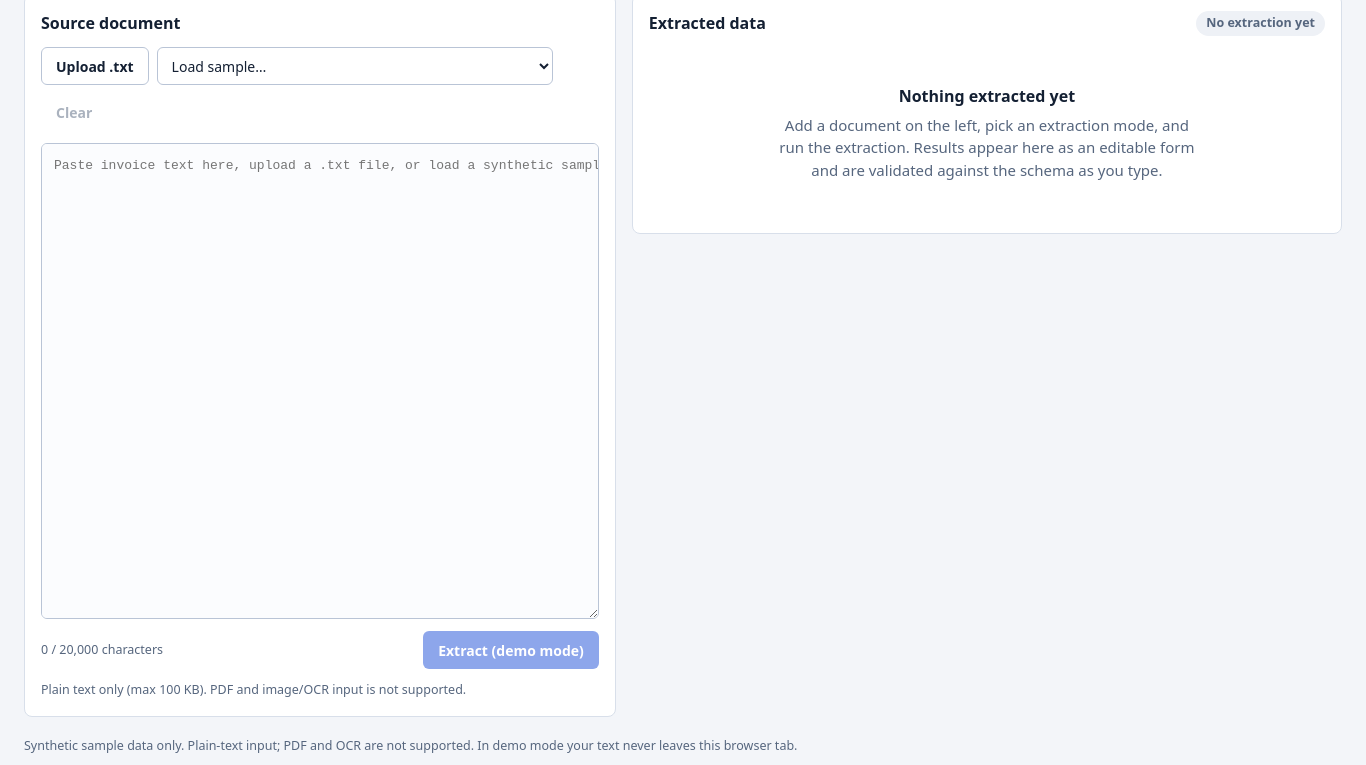
Test: App — demo mode › shows a clear error for text that is not an invoice (all fields flagged, nothing exportable)
(page scrolled)
Step 1. Replace the text in the text box named "document text" with "Just a shopping list: milk, eggs" → {"x": 320, "y": 381}, box [41,143,599,619]
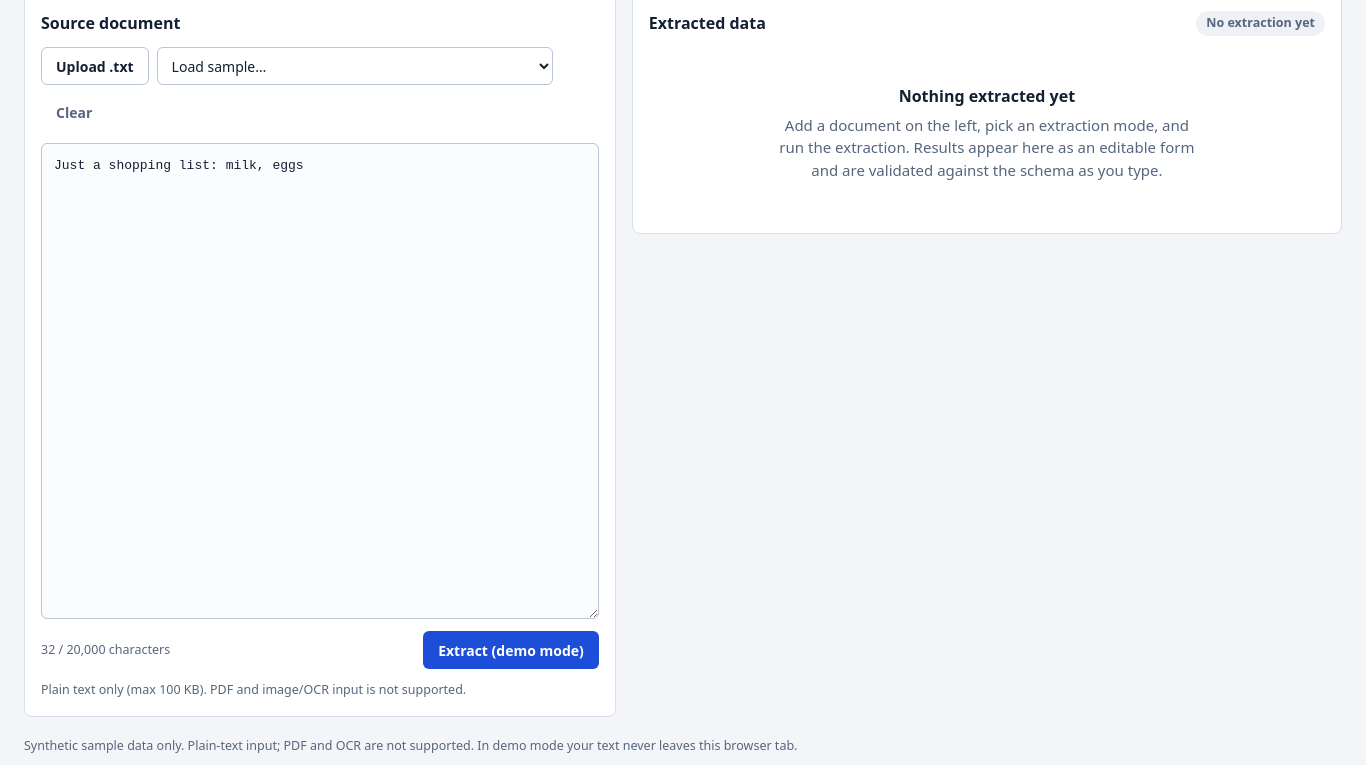
Step 2. Click the button "Extract (demo mode)" → {"x": 511, "y": 650}, box [423,631,599,669]
(page scrolled)
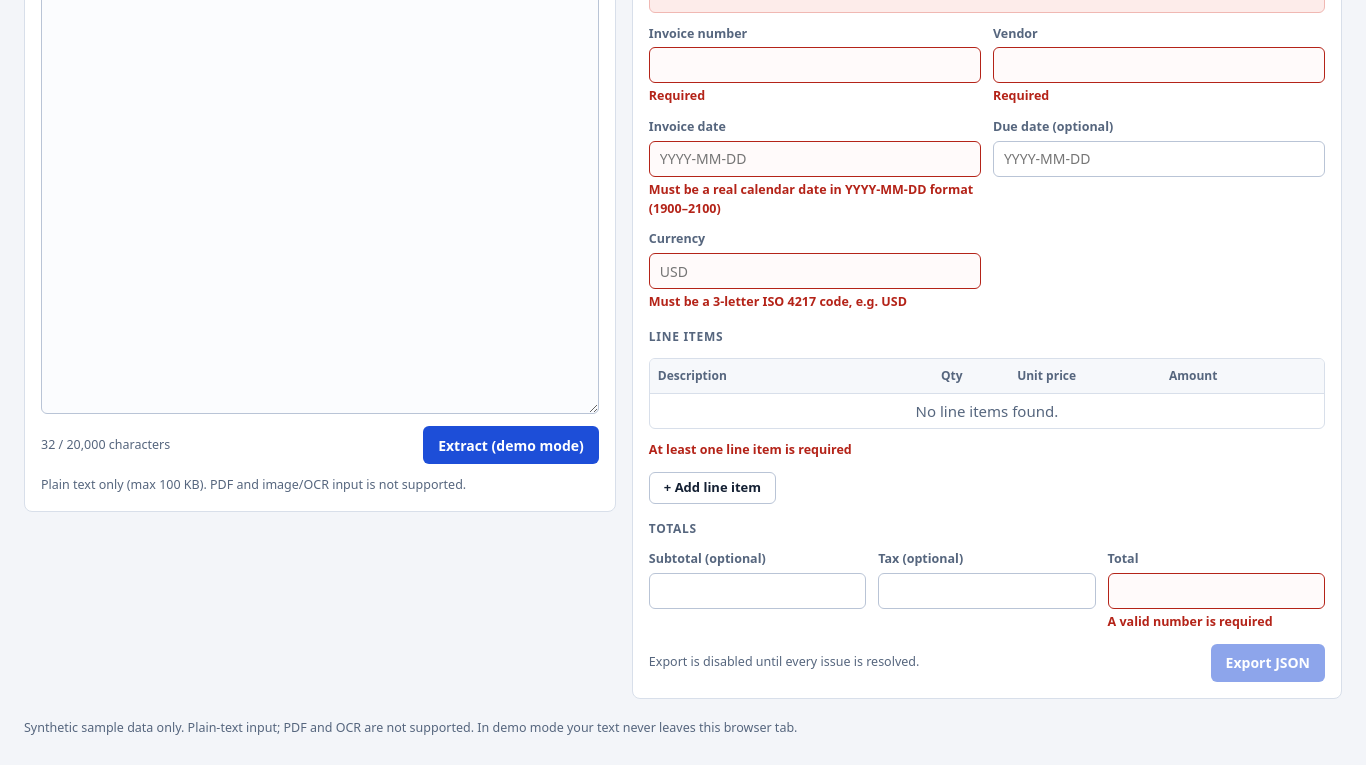
expect the button "Export JSON" is disabled: met, box [1211,644,1325,682]
